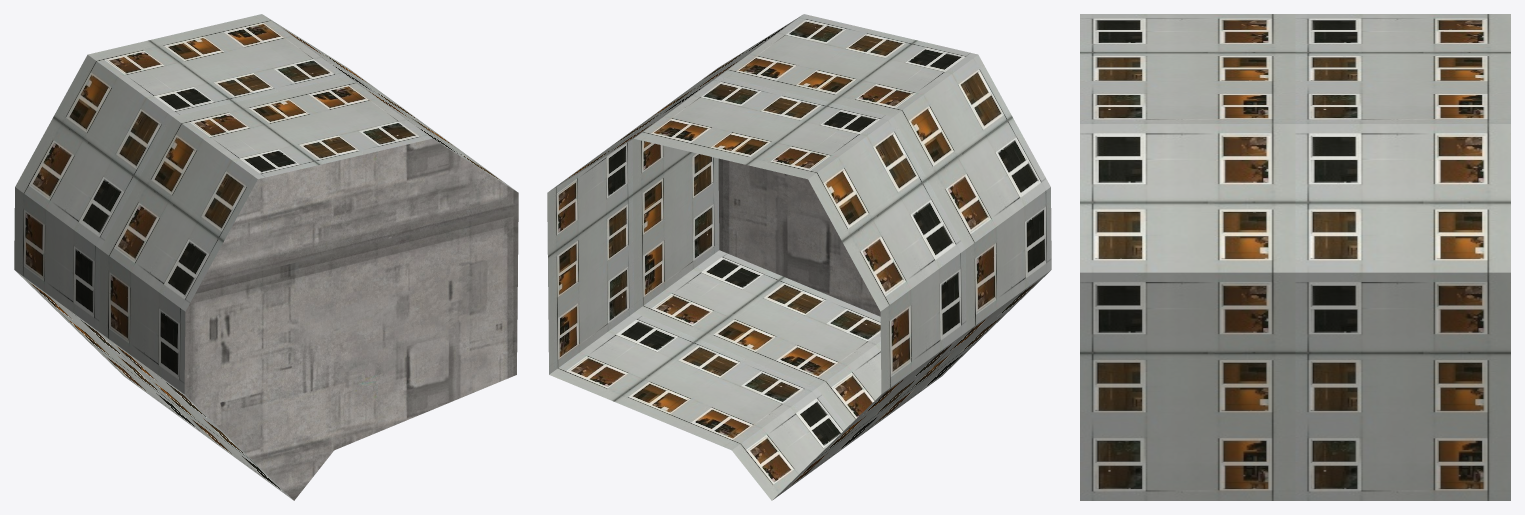
The model's file is 0AMfWZKU-building-68.obj.
3 renders of one model, left to right at view 1: azimuth 30°, elevation 25°; view 2: azimuth 150°, elevation 25°; view 3: azimuth 270°, elevation 25°, orthographic. The views are drawn at different scales.
Size of the model in its own units: 11.42 by 10.79 by 10.08.
